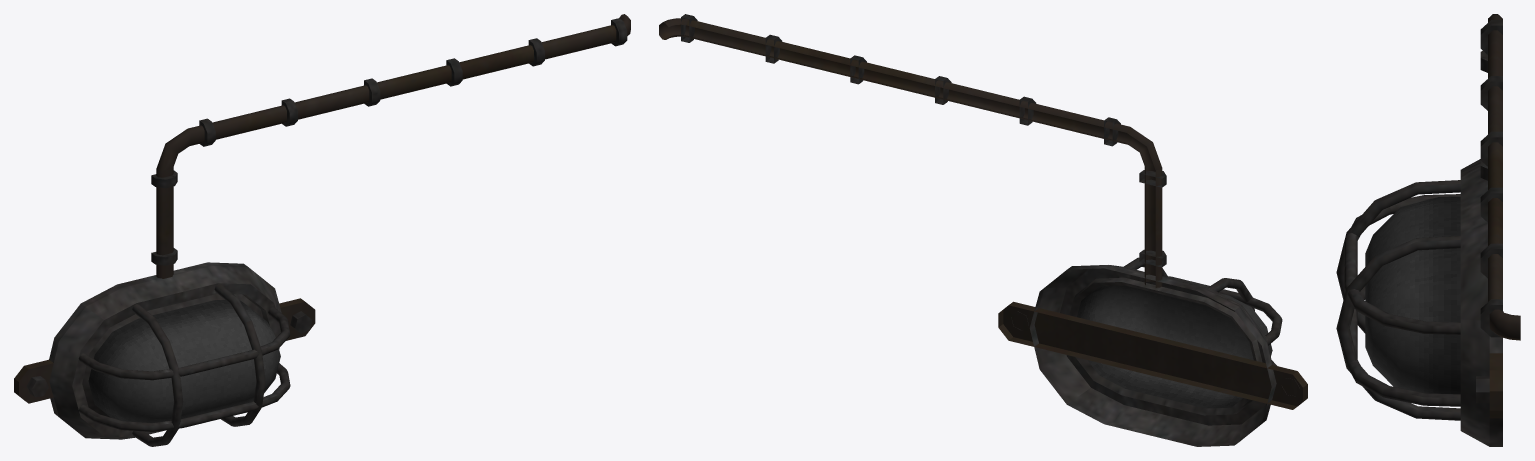
File: lamp_1_off.obj
The picture shows the model from 3 angles, left to right: view 1: azimuth 30°, elevation 25°; view 2: azimuth 150°, elevation 25°; view 3: azimuth 270°, elevation 25°; orthographic projection. The views are drawn at different scales.
Parts seen in each view (by area): view 1: lamp_1_off; view 2: lamp_1_off; view 3: lamp_1_off.
Part boxes in pixels (x1=…): lamp_1_off: x1=14, y1=14, x2=630, y2=446; lamp_1_off: x1=659, y1=14, x2=1307, y2=446; lamp_1_off: x1=1336, y1=14, x2=1520, y2=446.
Size of the model in its own units: 0.7532 by 0.343 by 0.1393.
